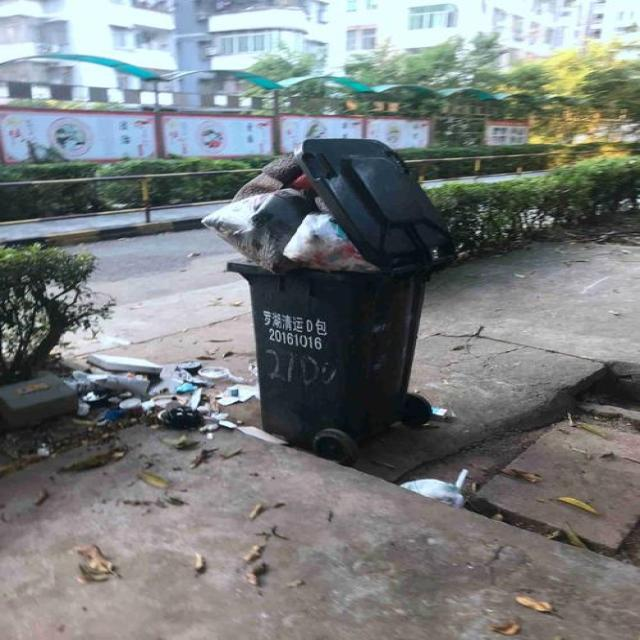garbage: (62, 354, 286, 447), (398, 468, 463, 506)
overflow: (196, 138, 456, 445)
